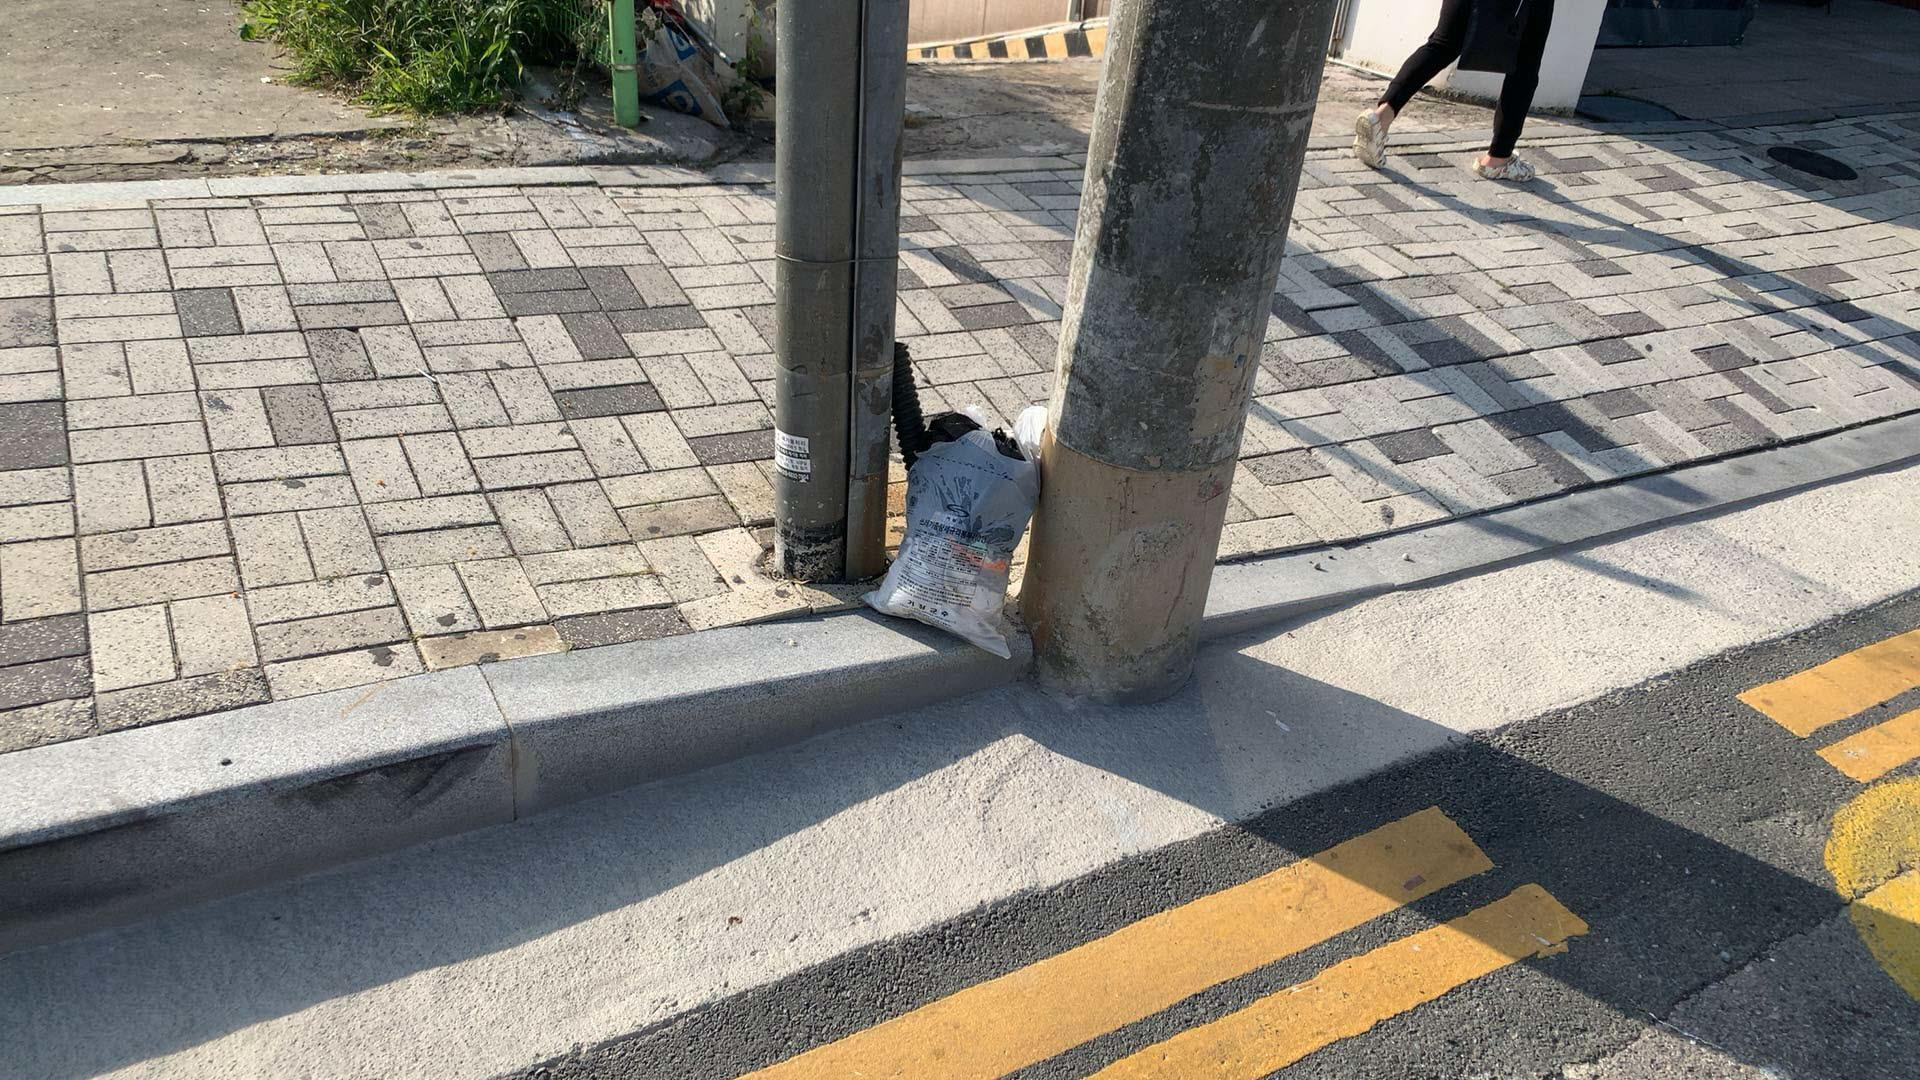white_bag: (855, 386, 1054, 673)
